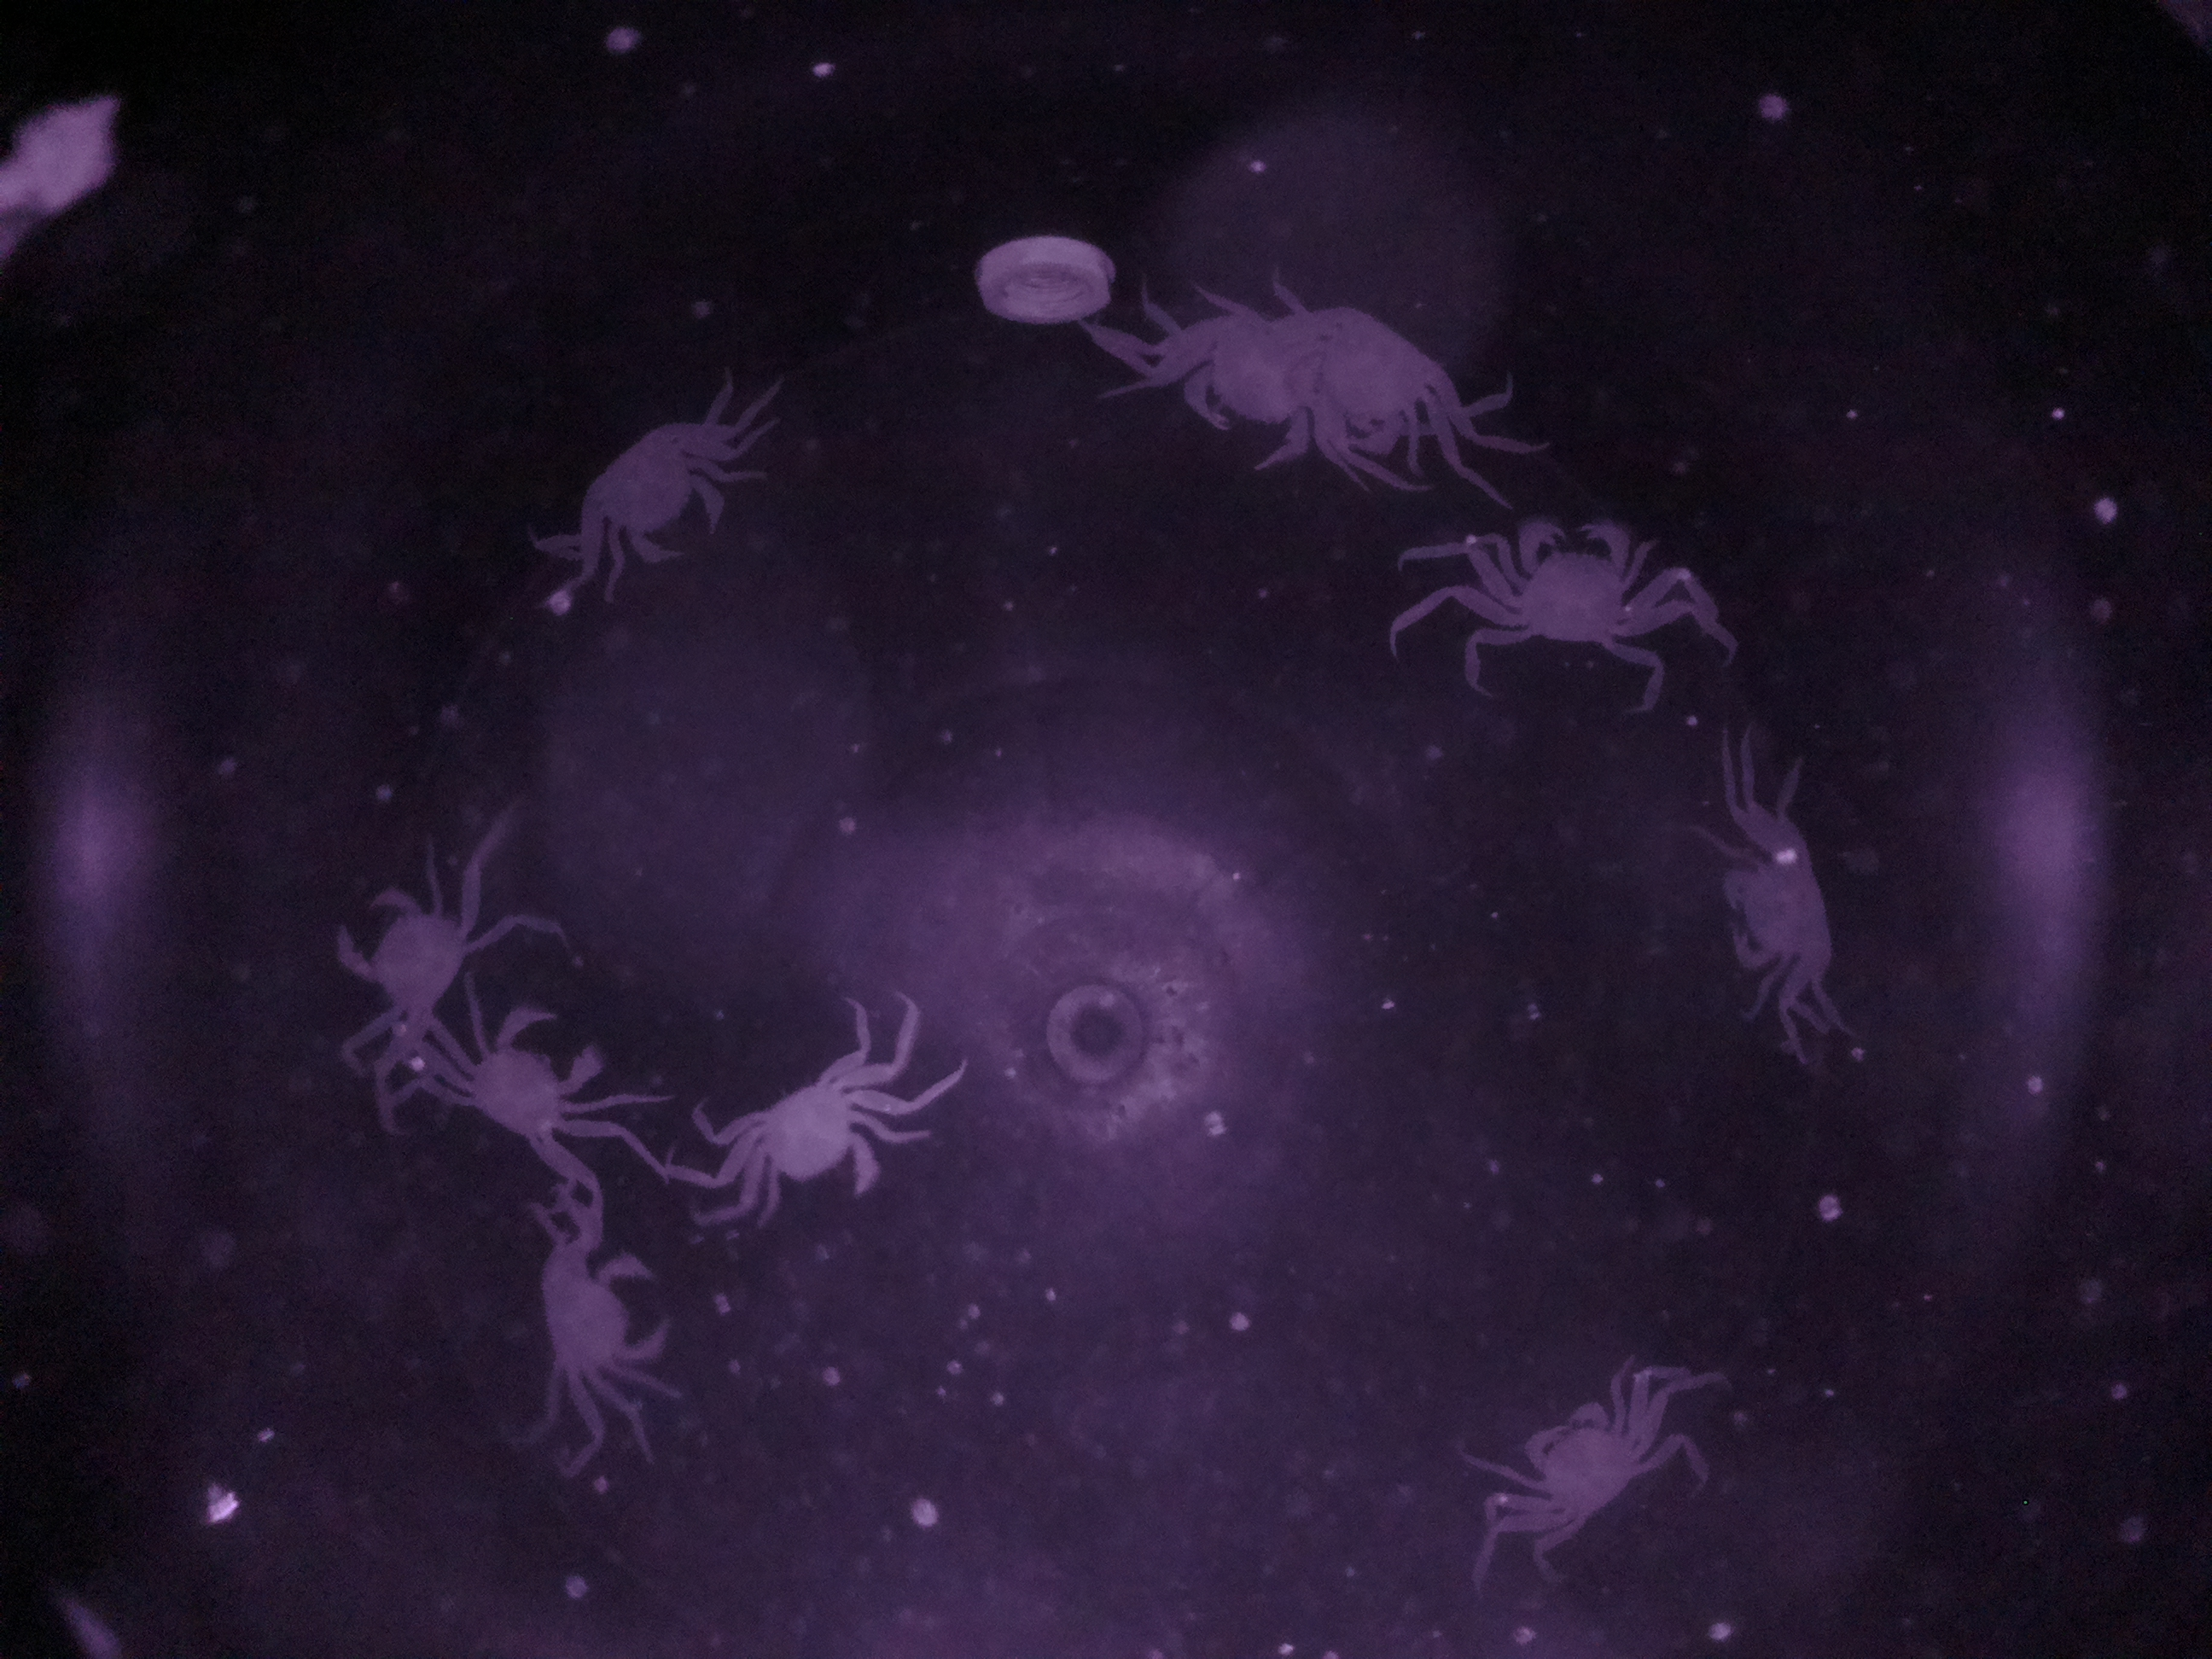Crab: (441, 978, 644, 1187), (570, 403, 752, 596), (695, 1047, 890, 1223), (1503, 1371, 1663, 1572), (1705, 816, 1860, 1021), (1465, 504, 1660, 664)
